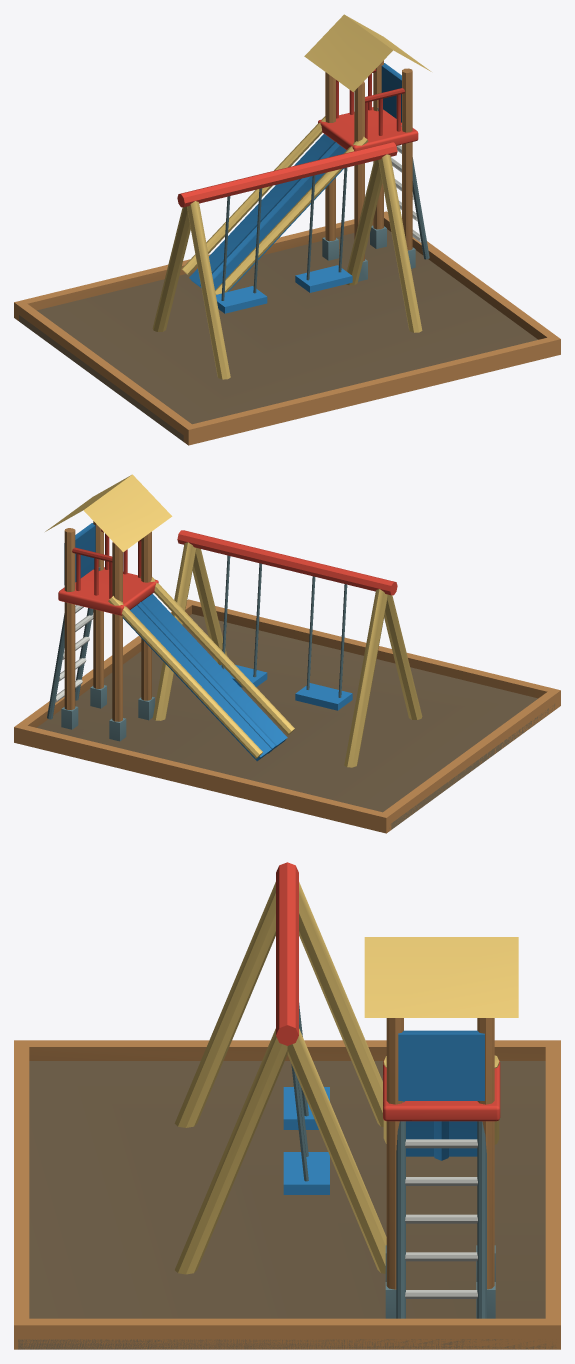
File: playground.glb
3 renders of one model, top to bottom at view 1: azimuth 30°, elevation 25°; view 2: azimuth 150°, elevation 25°; view 3: azimuth 270°, elevation 25°, orthographic. The views are drawn at different scales.
Parts seen in each view (by area): view 1: sand play area, play tower post, swing A frame, swing seat, swing beam, swing chain; view 2: sand play area, play tower post, swing A frame, swing seat, swing beam, swing chain, ladder step; view 3: sand play area, play tower post, swing A frame, swing seat, swing beam, swing chain, ladder step.
Part boxes in pixels (x1,y1,x2,y2): sand play area: [19, 229, 537, 441]; play tower post: [14, 60, 560, 445]; swing A frame: [152, 14, 431, 379]; swing seat: [189, 63, 401, 313]; swing beam: [177, 69, 418, 207]; swing chain: [221, 107, 429, 300]; sand play area: [37, 614, 554, 829]; play tower post: [14, 521, 560, 833]; swing A frame: [45, 474, 422, 767]; swing seat: [64, 523, 352, 761]; swing beam: [58, 529, 397, 615]; swing chain: [47, 555, 347, 741]; ladder step: [55, 605, 93, 702]; sand play area: [18, 1061, 556, 1349]; play tower post: [14, 1018, 560, 1349]; swing A frame: [174, 882, 518, 1274]; swing seat: [283, 1030, 484, 1194]; swing beam: [276, 862, 500, 1121]; swing chain: [291, 1003, 495, 1318]; ladder step: [405, 1139, 477, 1298].
Bounding box in the file's own units: 3.5 × 2.14 × 2.84.
